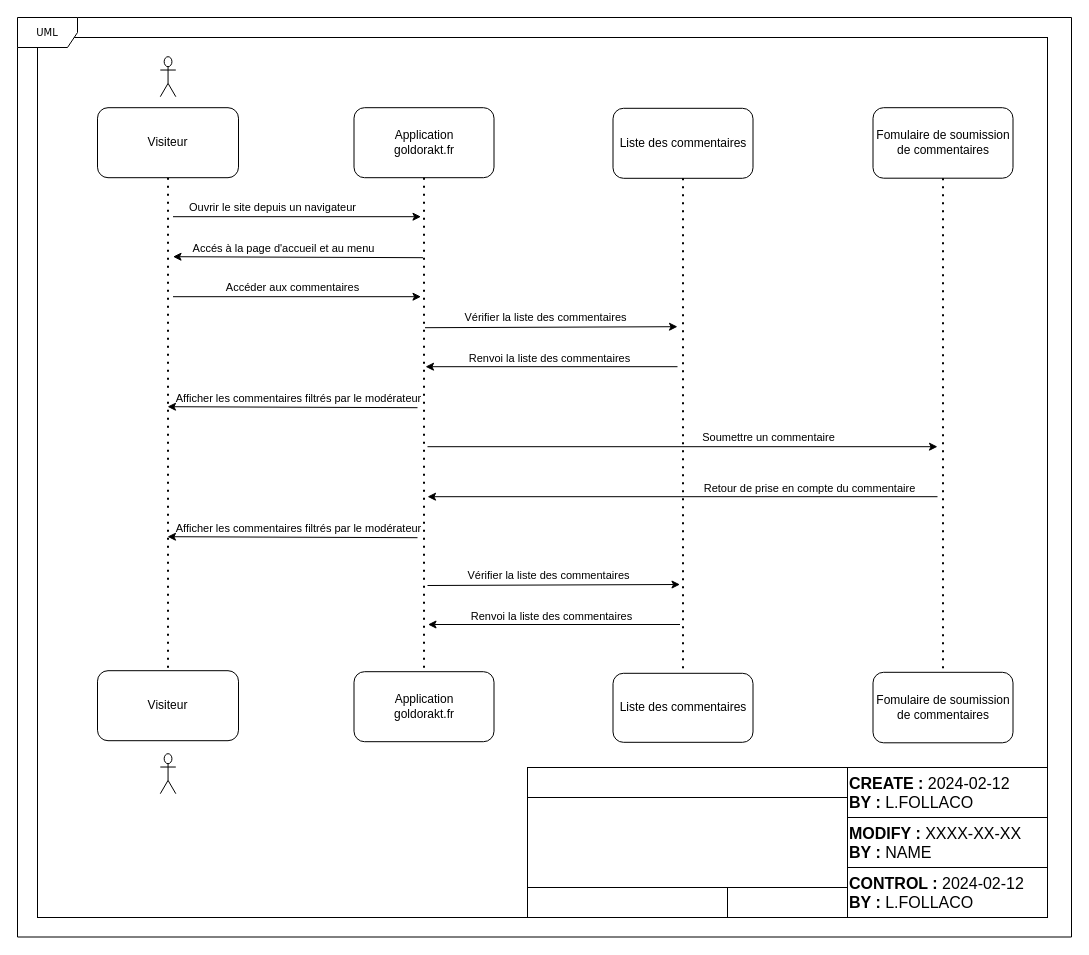
Some shapes in this 1089 by 955 pixel diagram are drawn without their labels. The centre of each missing label's shape, as x and y in pixels:
"DESIGNATION" belongs at [687,782].
"Ref. : 2403DG001" belongs at [627,902].
"Rev. : 01" belongs at [787,902].
"Sequence Commentaires Projet Goldorak" belongs at [687,842].
